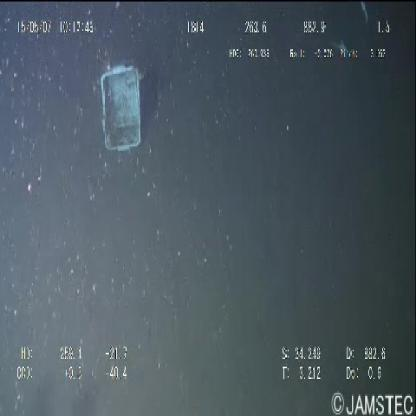Rác: (101, 65, 143, 155)
